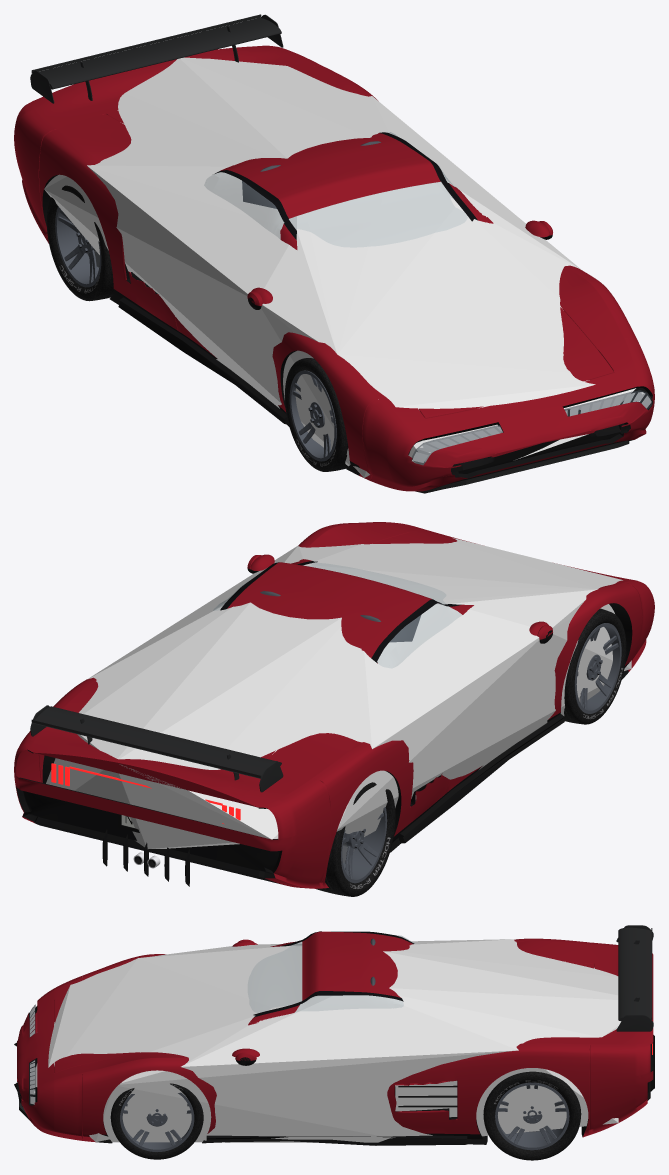
File: noctra_sable_lod0.glb
3 views of the same model, one above another, from view 1: azimuth 30°, elevation 25°; view 2: azimuth 150°, elevation 25°; view 3: azimuth 270°, elevation 25° (orthographic). The views are drawn at different scales.
Visible parts, largest first — view 1: col_body, body, trim, glass, wheel_RR, wheel_FR, lights_front, underbody; view 2: col_body, body, trim, wheel_FR, wheel_RR, glass, underbody, lights_rear; view 3: col_body, body, trim, wheel_RL, glass, wheel_FL, lights_front.
Boxes of the visible parts, <box> form: col_body: <box>44,57,636,477</box>; body: <box>14,45,654,491</box>; trim: <box>30,14,629,493</box>; glass: <box>204,132,467,247</box>; wheel_RR: <box>46,185,113,301</box>; wheel_FR: <box>284,358,348,471</box>; lights_front: <box>412,390,652,464</box>; underbody: <box>42,175,632,489</box>; col_body: <box>46,537,631,848</box>; body: <box>14,522,654,888</box>; trim: <box>30,555,564,886</box>; wheel_FR: <box>563,608,626,724</box>; wheel_RR: <box>316,782,395,896</box>; glass: <box>213,563,461,667</box>; underbody: <box>34,603,632,884</box>; lights_rear: <box>51,763,240,824</box>; col_body: <box>30,939,621,1142</box>; body: <box>14,931,653,1144</box>; trim: <box>19,925,654,1145</box>; wheel_RL: <box>483,1071,581,1160</box>; glass: <box>248,935,412,1012</box>; wheel_FL: <box>110,1083,203,1159</box>; lights_front: <box>29,1004,35,1105</box>.
Size of the model in its own units: 1.95 by 1.15 by 4.55.
15 materials, 3 textured.
